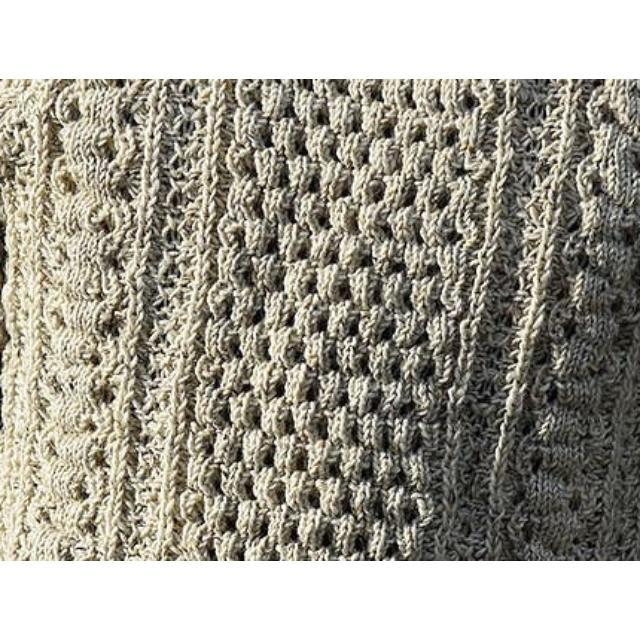wool: (0, 79, 640, 561)
